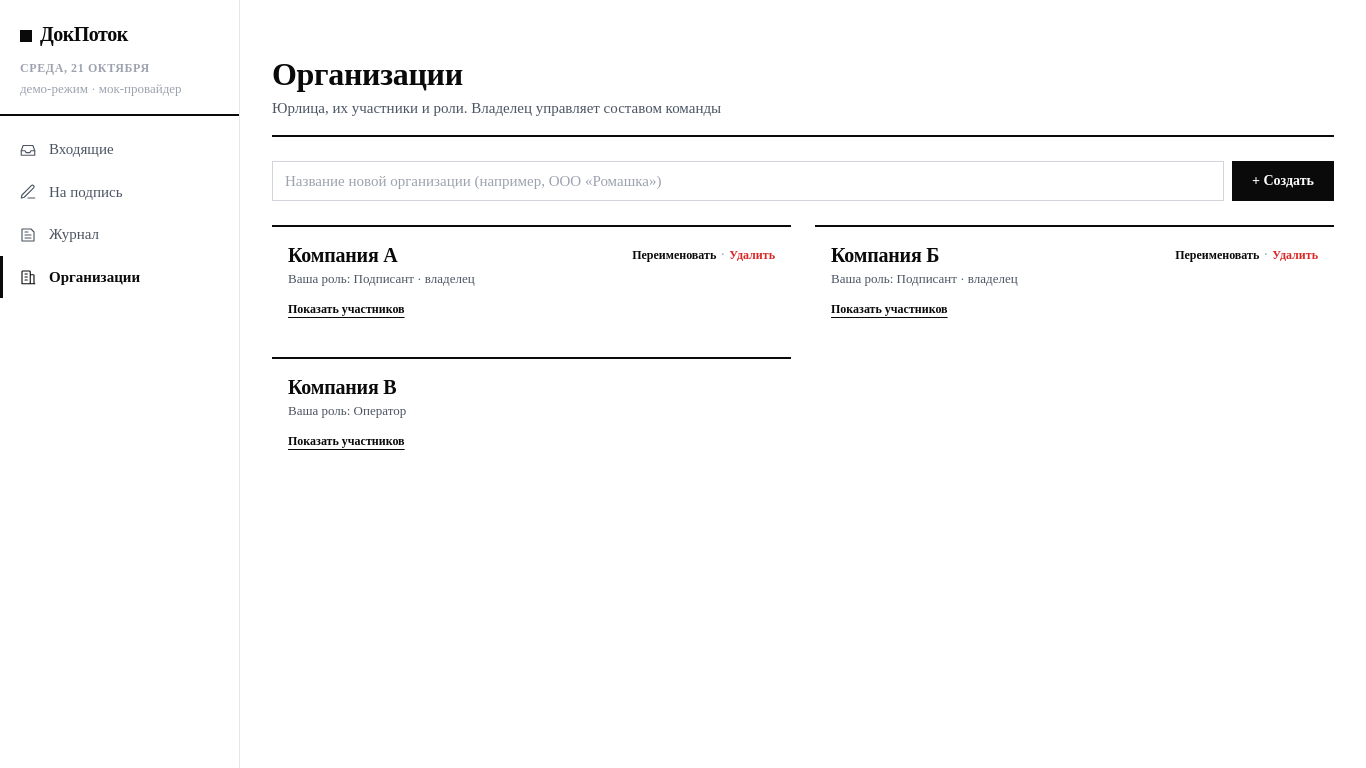
Test: Организации (CRUD) › создаёт организацию и показывает её владельцем-подписантом
Expected: the heading "Организации" is shown, [272,56,463,92]
Type "ООО «Ромашка»" into the field labelled "Название новой организации". click: (748, 181)
box: [272,161,1224,201]
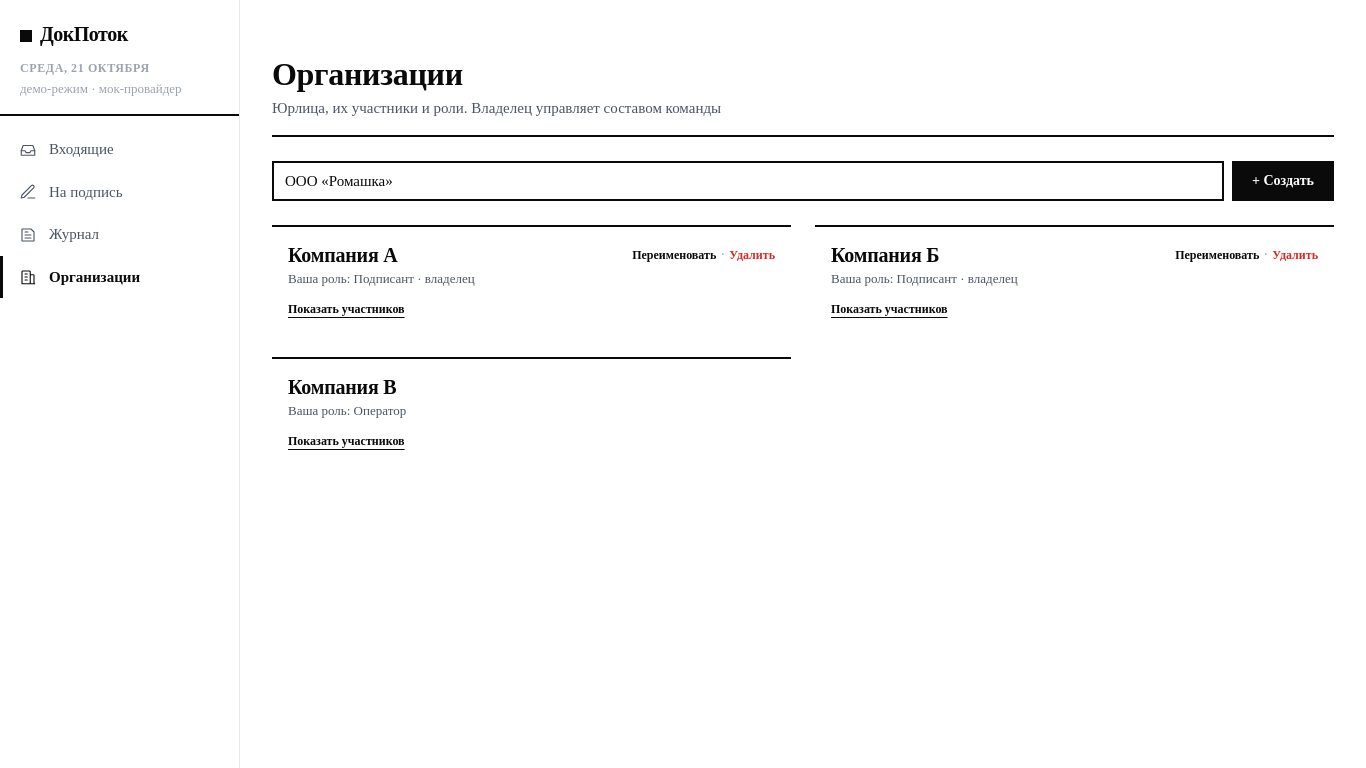
Click the button "+ Создать". click: (1283, 181)
box: [1232,161,1334,201]
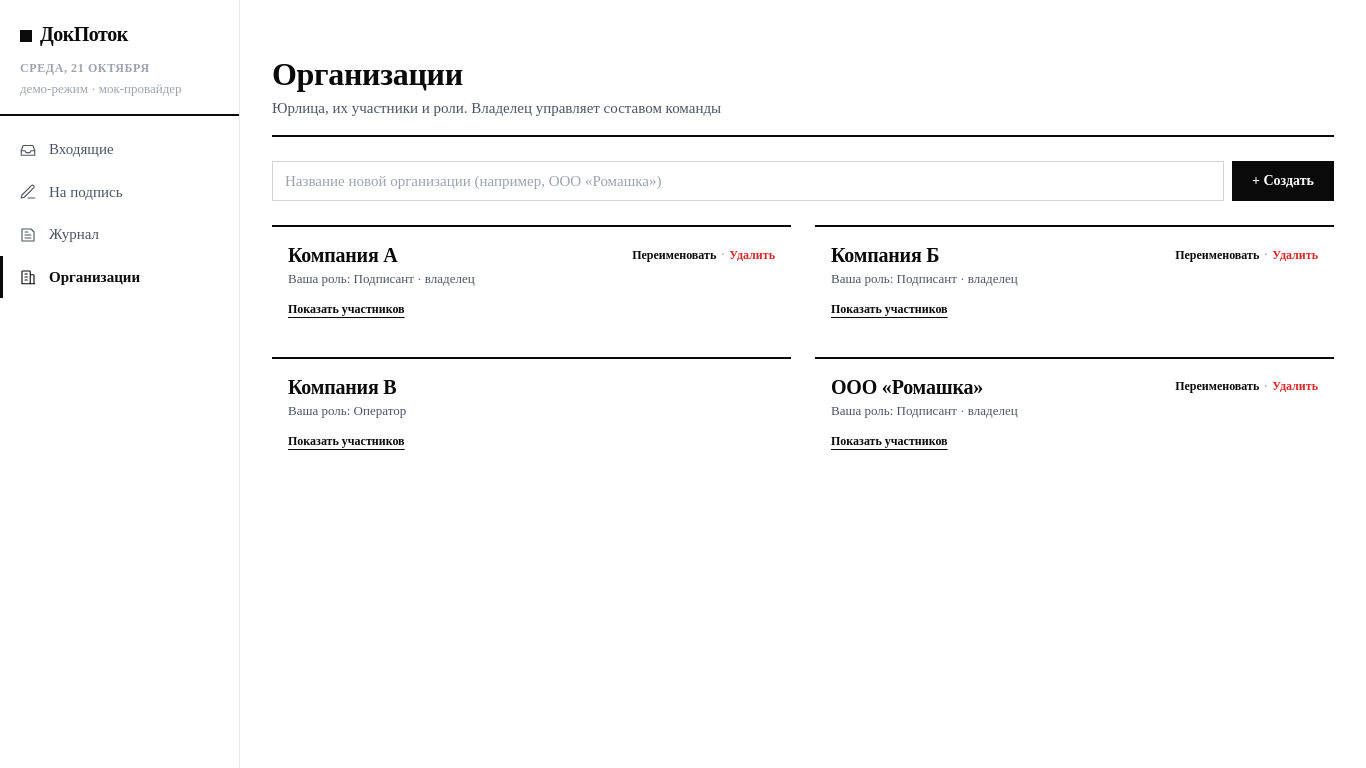
Result: the text "Ваша роль: Подписант · владелец" below "ООО «Ромашка»" is shown at [831,402,1018,421]
